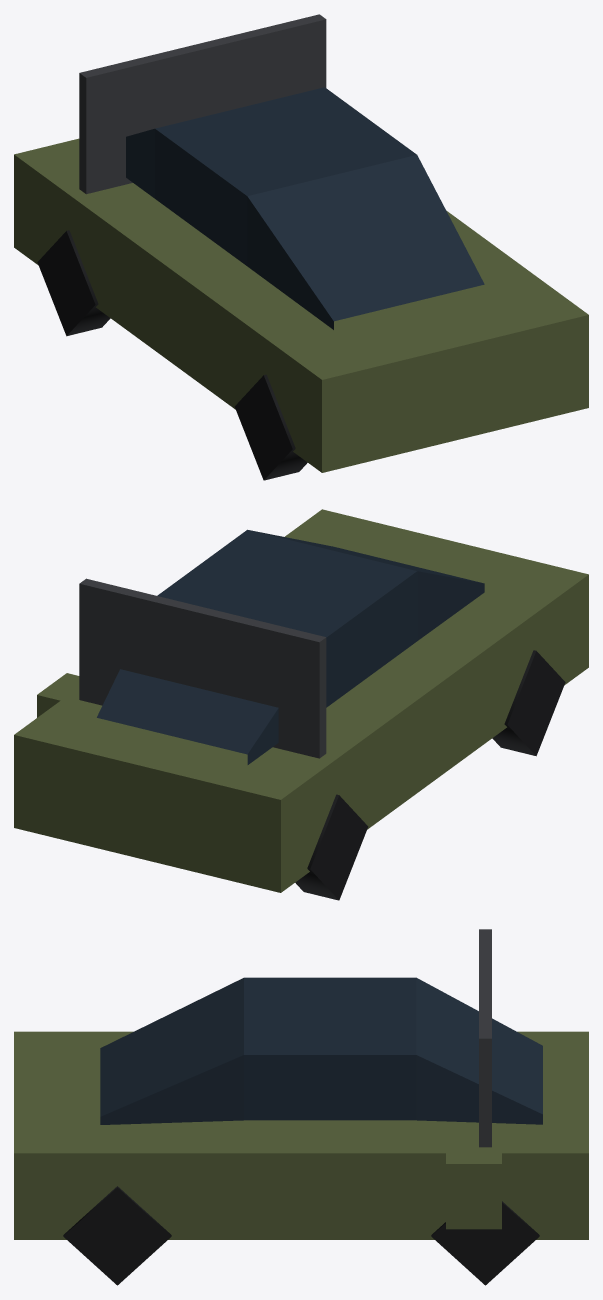
The model's file is veh_ground_jeep_a07_lod2.glb.
3 renders of one model, top to bottom at view 1: azimuth 30°, elevation 25°; view 2: azimuth 150°, elevation 25°; view 3: azimuth 270°, elevation 25°, orthographic. The views are drawn at different scales.
Parts seen in each view (by area): view 1: body, wheel_2, wheel_0; view 2: body, wheel_0, wheel_2; view 3: body, wheel_3, wheel_1.
Boxes of the visible parts, x1=… form: body: x1=14, y1=14, x2=588, y2=472; wheel_2: x1=234, y1=374, x2=307, y2=480; wheel_0: x1=37, y1=230, x2=110, y2=336; body: x1=14, y1=509, x2=588, y2=892; wheel_0: x1=295, y1=794, x2=368, y2=900; wheel_2: x1=492, y1=650, x2=565, y2=756; body: x1=14, y1=929, x2=588, y2=1239; wheel_3: x1=63, y1=1186, x2=171, y2=1285; wheel_1: x1=431, y1=1201, x2=539, y2=1285.
Size of the model in its own units: 1.98 by 1.66 by 3.6.
